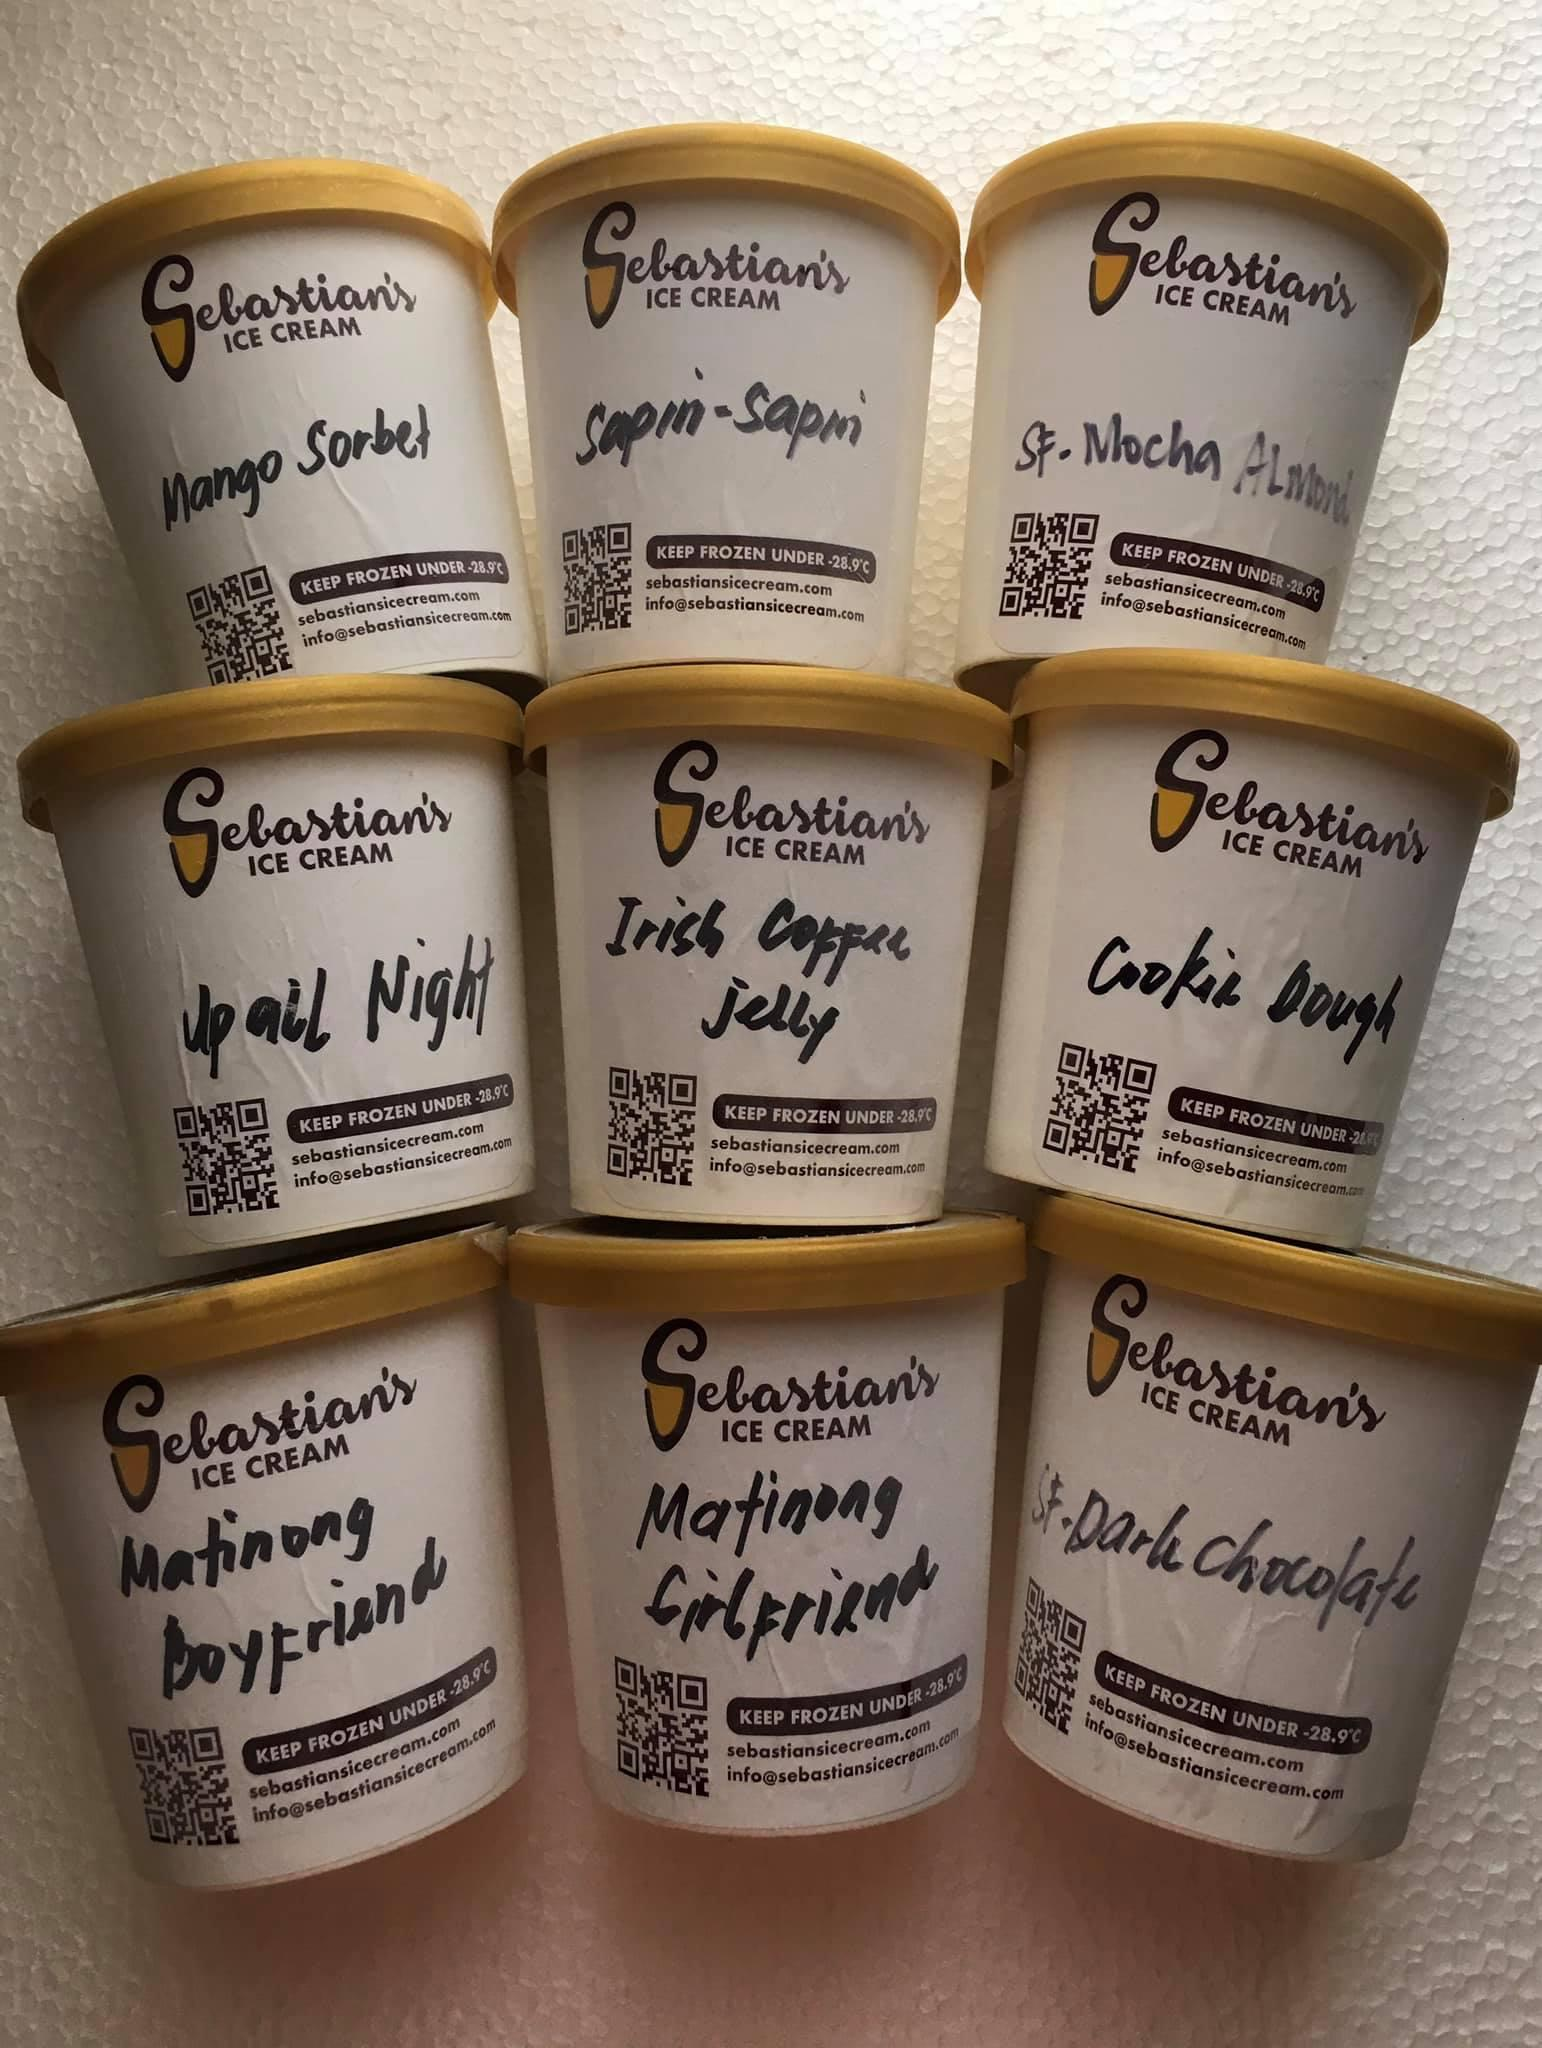plastic: (1004, 1195, 1536, 1857), (0, 1229, 525, 1886), (509, 1217, 1024, 1833), (986, 649, 1514, 1248), (19, 675, 531, 1256), (19, 159, 539, 688), (526, 665, 1007, 1222), (957, 121, 1443, 665), (496, 123, 959, 678)
